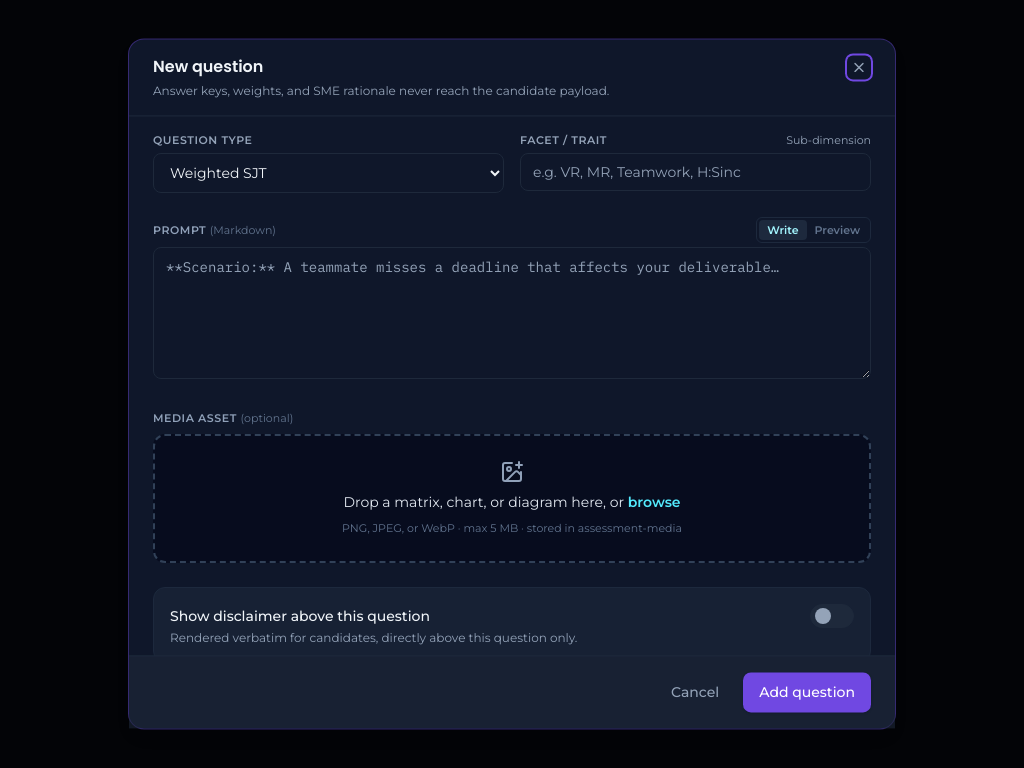
QuestionEditorModal › switches answer builders and resets type-specific state while keeping the prompt
Type "Pick the best response" into the text box labelled "Prompt (Markdown)" at (512, 313), box x1=153 y1=247 x2=871 y2=379
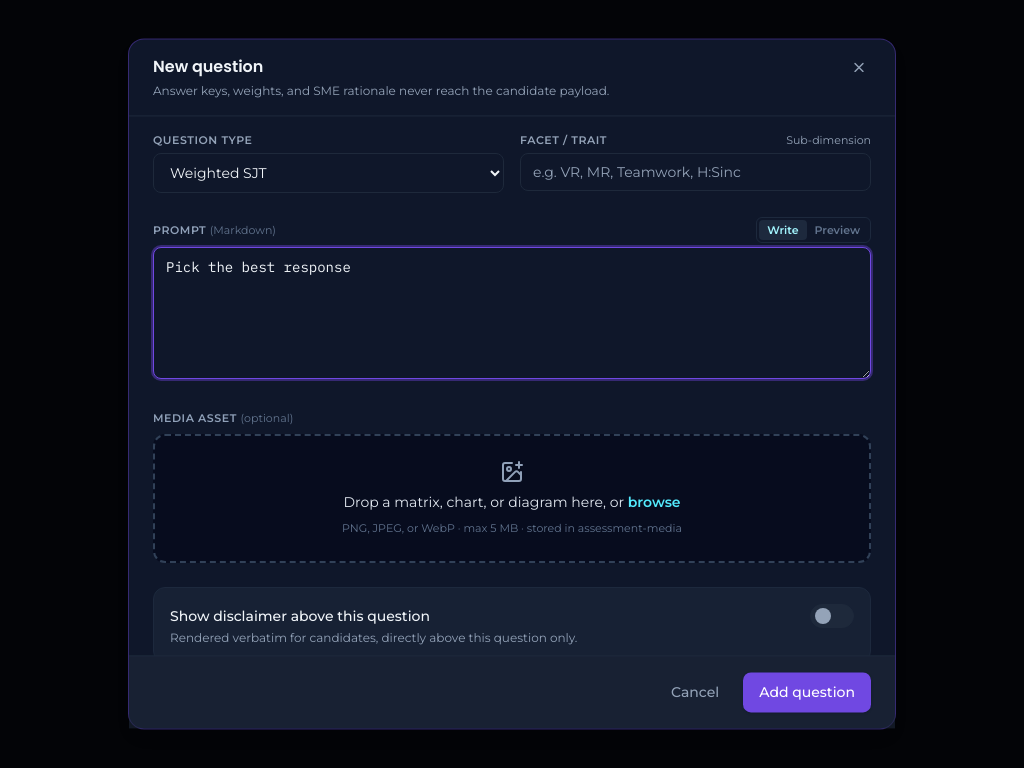
Select "CogniCheck MCQ" in the dropdown labelled "Question type" at (328, 173), box x1=153 y1=153 x2=504 y2=193
(page scrolled)
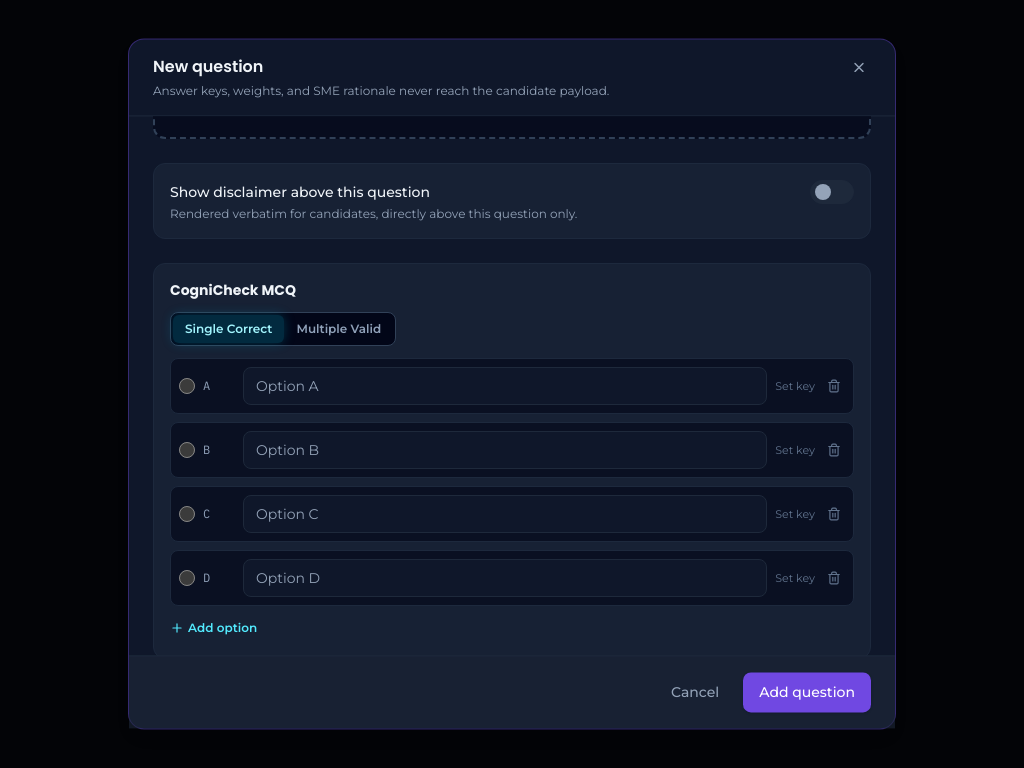
Type "Alpha" into the field named "Option A text" at (505, 386), box x1=243 y1=367 x2=767 y2=405
(page scrolled)
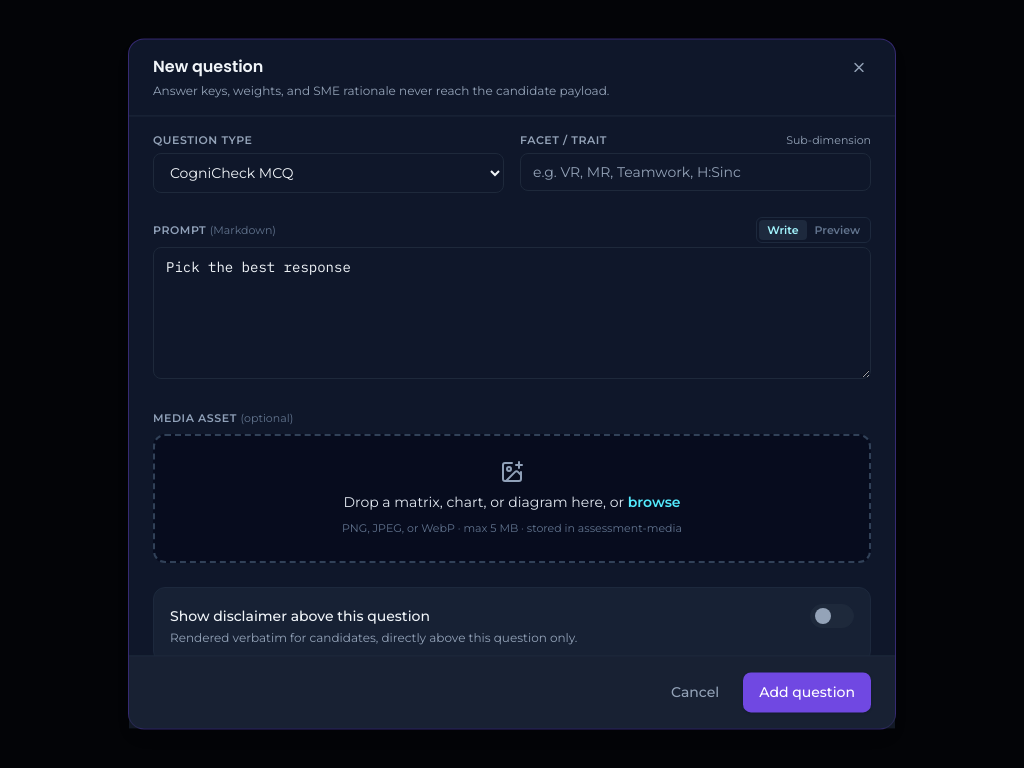
Select "Weighted SJT" in the dropdown labelled "Question type" at (328, 173), box x1=153 y1=153 x2=504 y2=193
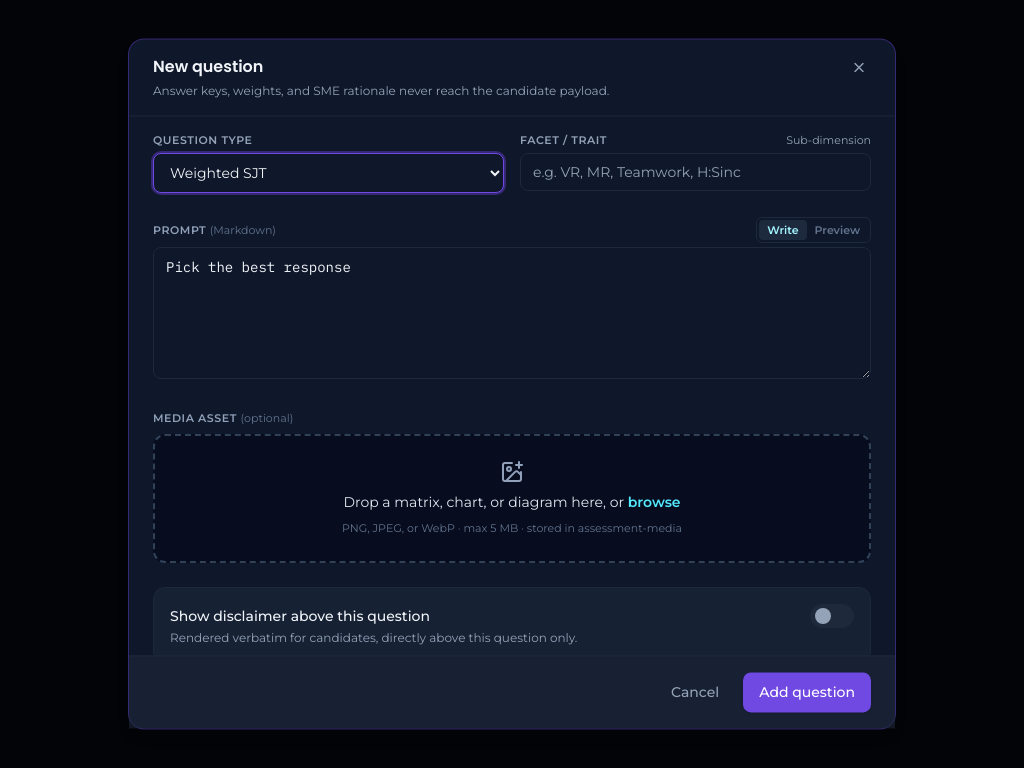
Select "CRT" in the dropdown labelled "Question type" at (328, 173), box x1=153 y1=153 x2=504 y2=193
(page scrolled)
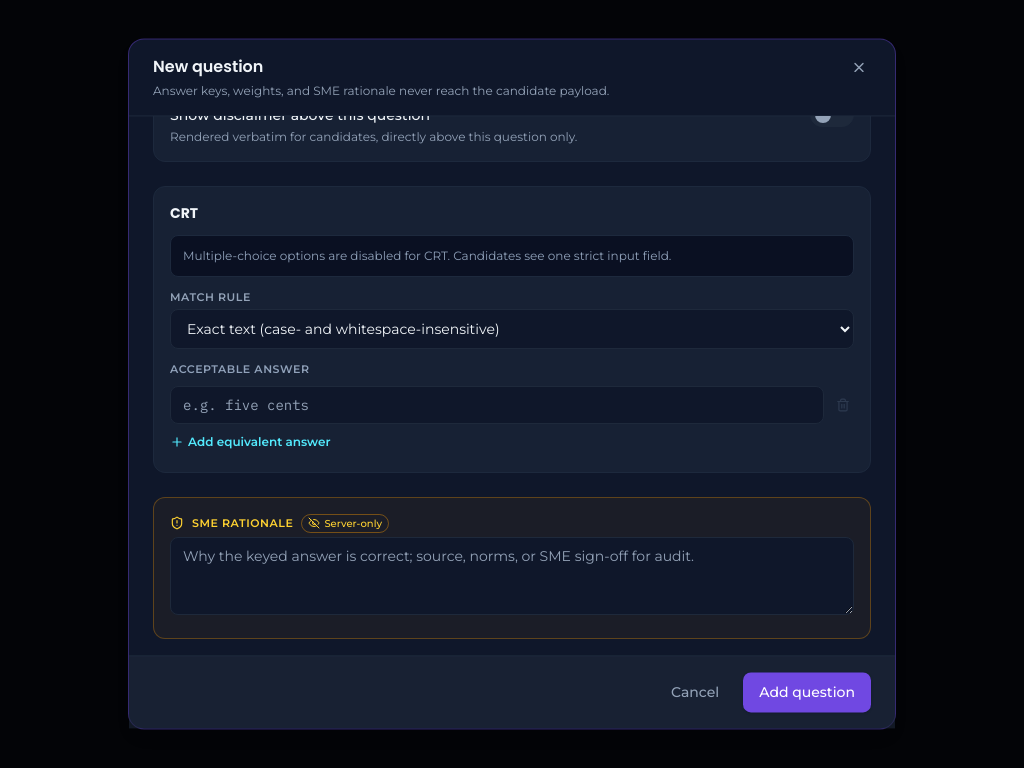
Check: the field named "Accepted answer 1" is shown, box x1=170 y1=386 x2=824 y2=424
